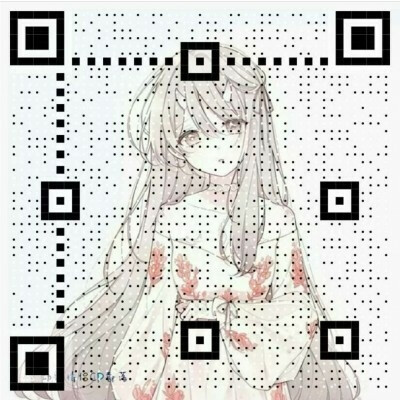QRCode: (4, 9, 400, 400)
